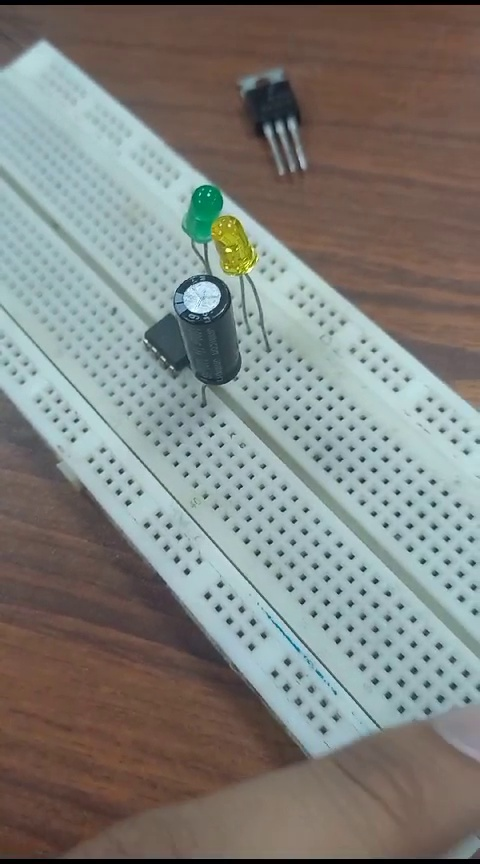IC: (136, 313, 188, 369)
LED: (207, 219, 270, 297), (179, 181, 220, 253)
capacitor: (168, 279, 243, 383)
voltage regulator: (232, 69, 316, 184)
